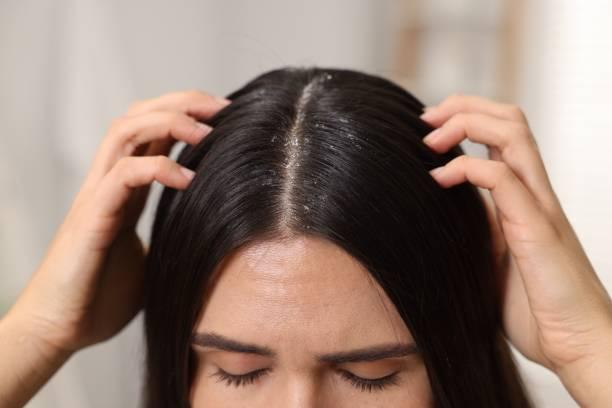dandruff: (335, 115, 364, 152), (254, 164, 285, 195), (316, 69, 348, 92), (265, 136, 307, 153), (306, 176, 321, 189), (296, 202, 314, 212)
